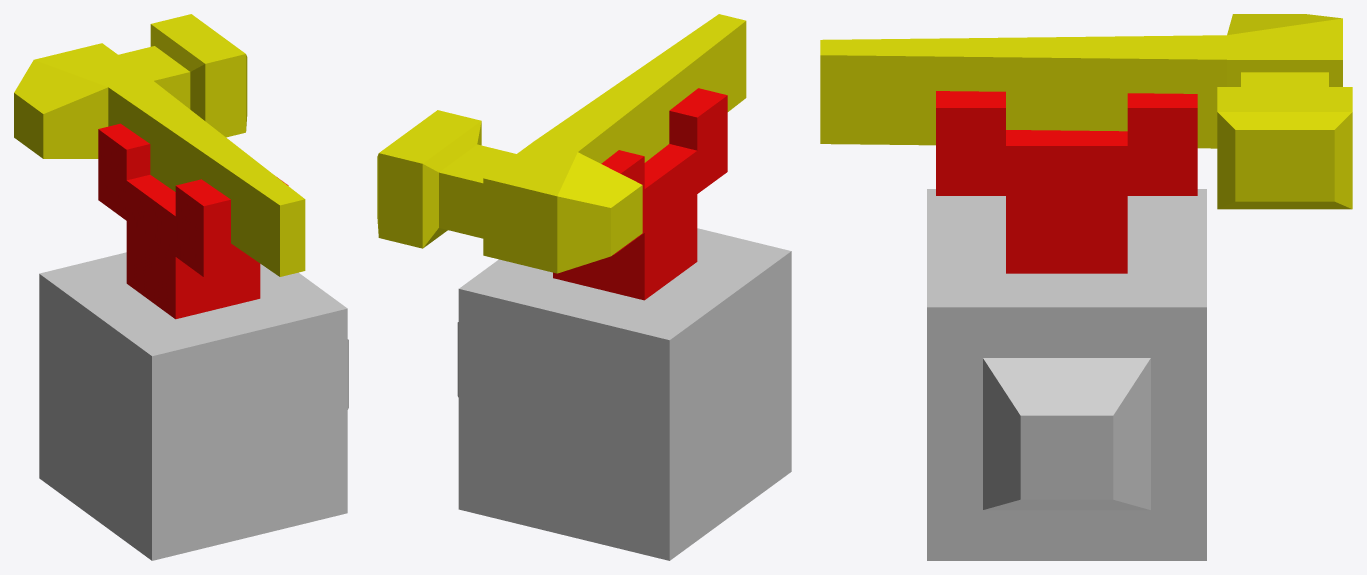
File: Worker.fbx
3 renders of one model, left to right at view 1: azimuth 30°, elevation 25°; view 2: azimuth 150°, elevation 25°; view 3: azimuth 270°, elevation 25°, orthographic. The views are drawn at different scales.
Visible parts, largest first — view 1: Cuerpo, Martillo; view 2: Cuerpo, Martillo; view 3: Cuerpo, Martillo.
Part boxes in pixels (box(x1,y1,x2,y2)): Cuerpo: box(39, 123, 348, 560); Martillo: box(14, 14, 305, 276); Cuerpo: box(457, 88, 791, 560); Martillo: box(377, 14, 746, 273); Cuerpo: box(927, 91, 1206, 560); Martillo: box(820, 14, 1352, 209).
Bounding box in the file's own units: 240 × 361 × 380.
